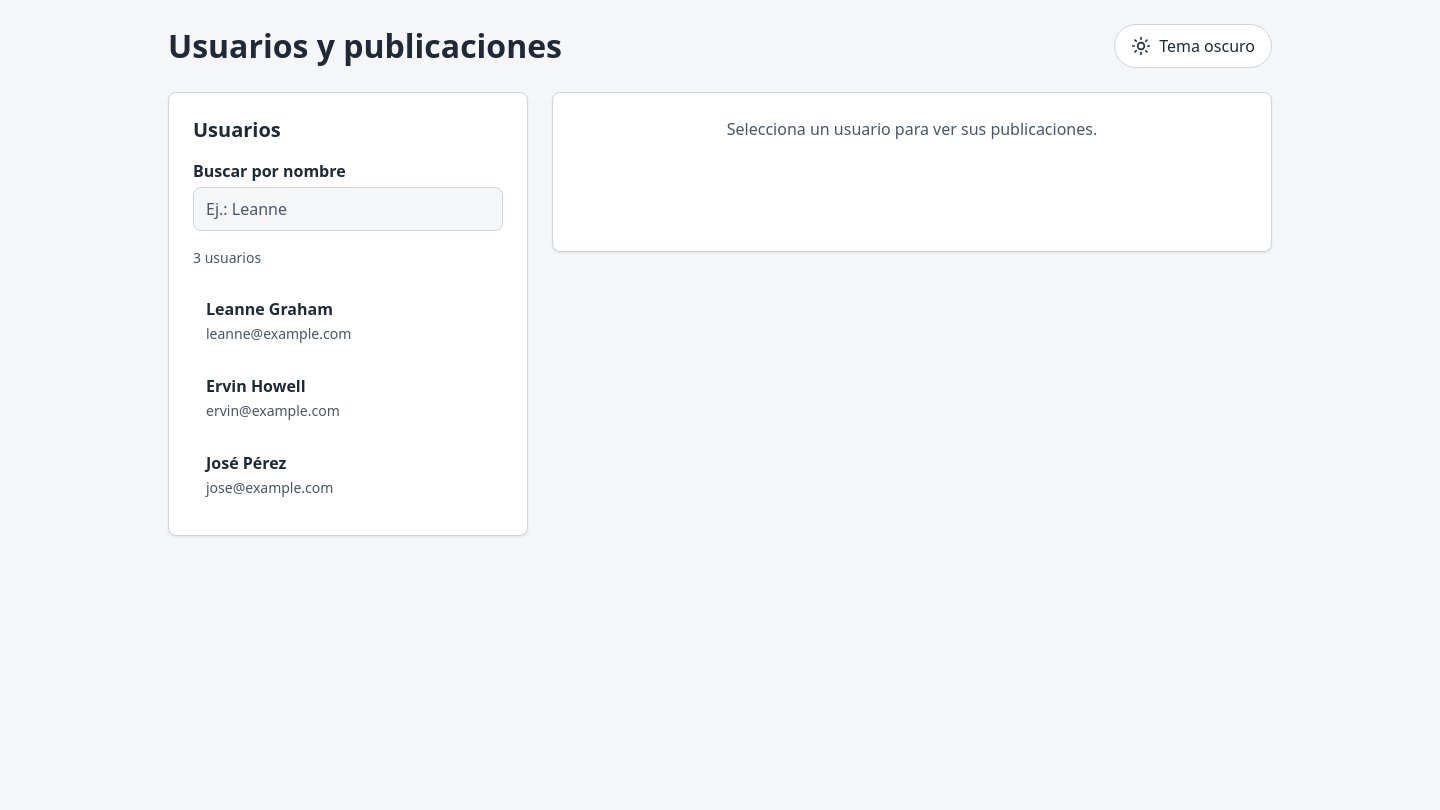
Test case: Tema › alterna entre claro y oscuro y recuerda la elección
Click the button "Tema oscuro".
click(1193, 46)  # box top-left (1114, 24), bottom-right (1272, 68)
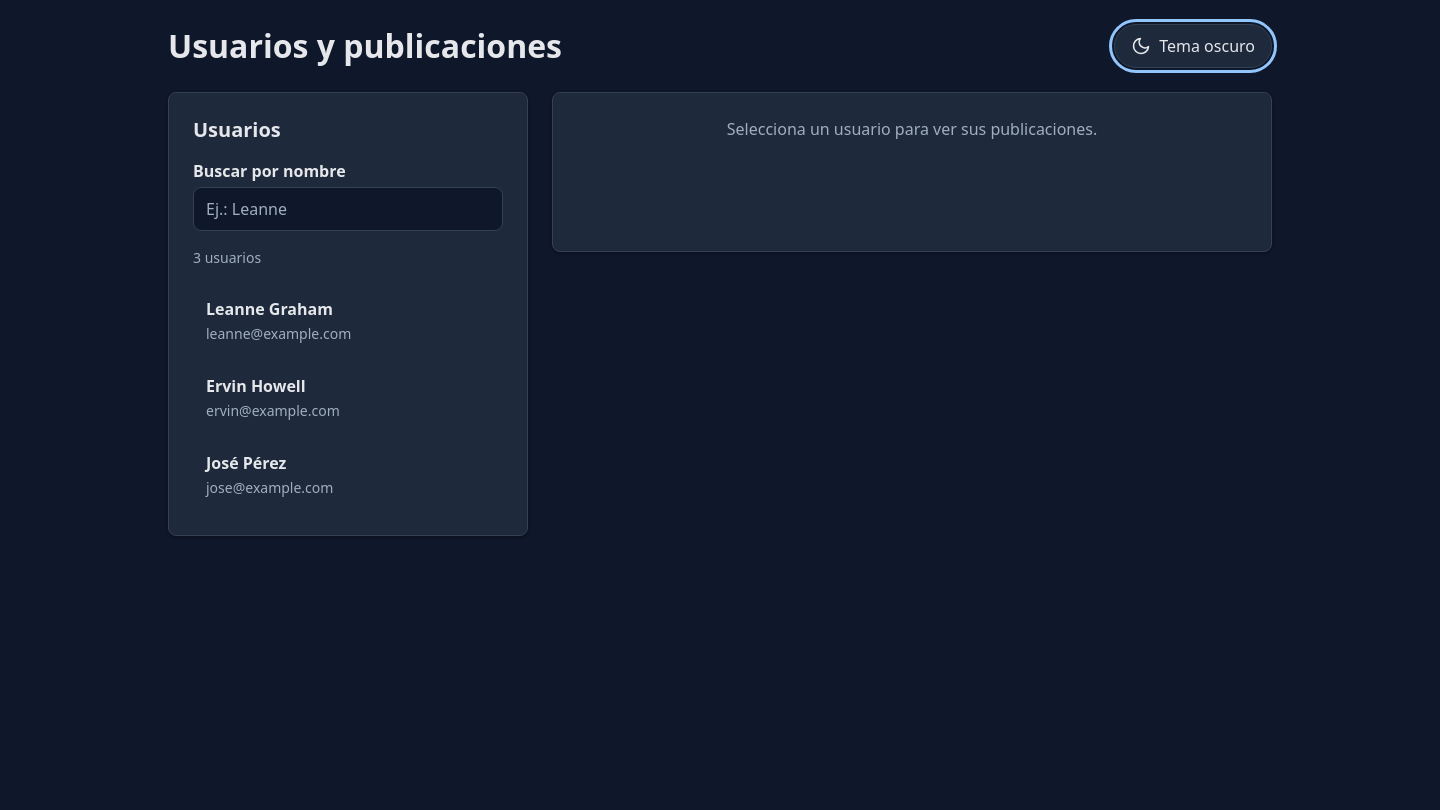
Check: the button "Tema oscuro" is pressed, box top-left (1114, 24), bottom-right (1272, 68)
